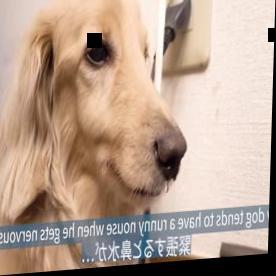nasal_discharge: (161, 163, 181, 198)
